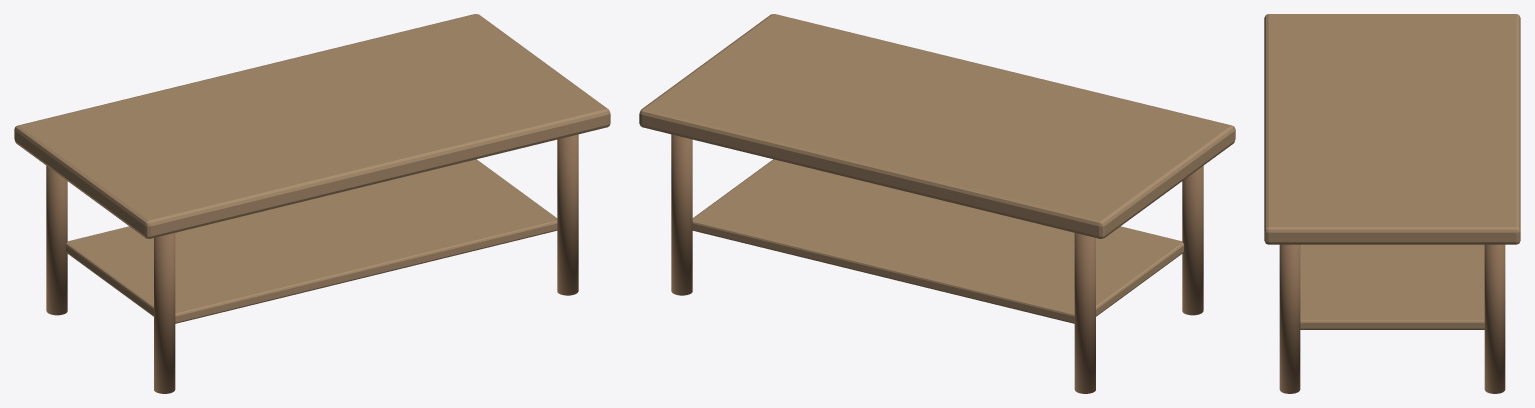
Rendered from coffee_table.glb.
3 renders of one model, left to right at view 1: azimuth 30°, elevation 25°; view 2: azimuth 150°, elevation 25°; view 3: azimuth 270°, elevation 25°, orthographic. The views are drawn at different scales.
Visible parts, largest first — view 1: TableTop, LowerShelf, Leg_0.52_-0.24, Leg_-0.52_-0.24, Leg_-0.52_0.24; view 2: TableTop, LowerShelf, Leg_0.52_0.24, Leg_-0.52_0.24, Leg_-0.52_-0.24; view 3: TableTop, LowerShelf, Leg_0.52_-0.24, Leg_0.52_0.24.
Part boxes in pixels (x1,y1,x2,y2): TableTop: (14, 14, 610, 238); LowerShelf: (66, 159, 557, 323); Leg_0.52_-0.24: (557, 134, 578, 295); Leg_-0.52_-0.24: (154, 233, 175, 393); Leg_-0.52_0.24: (46, 166, 67, 315); TableTop: (639, 14, 1235, 238); LowerShelf: (692, 159, 1183, 323); Leg_0.52_0.24: (671, 134, 692, 295); Leg_-0.52_0.24: (1074, 233, 1095, 393); Leg_-0.52_-0.24: (1182, 166, 1203, 315); TableTop: (1264, 14, 1520, 244); LowerShelf: (1300, 244, 1484, 329); Leg_0.52_-0.24: (1279, 244, 1300, 393); Leg_0.52_0.24: (1484, 244, 1505, 393).
Size of the model in its own units: 1.2 by 0.4525 by 0.6.
